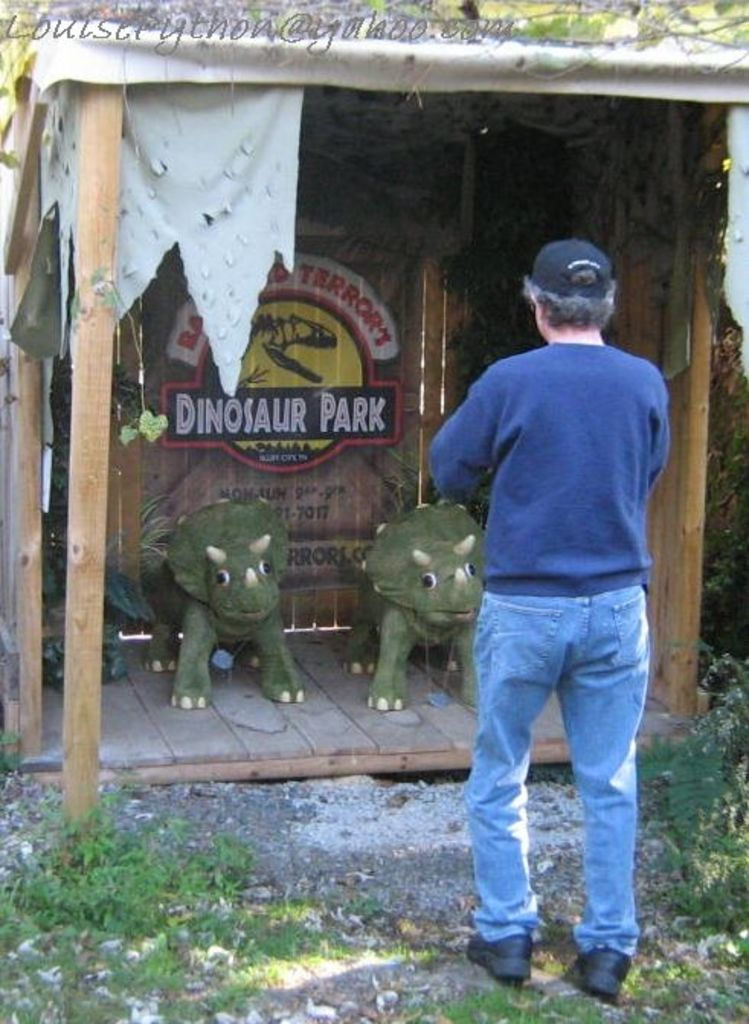Animal: (143, 499, 307, 705), (343, 498, 483, 711)
